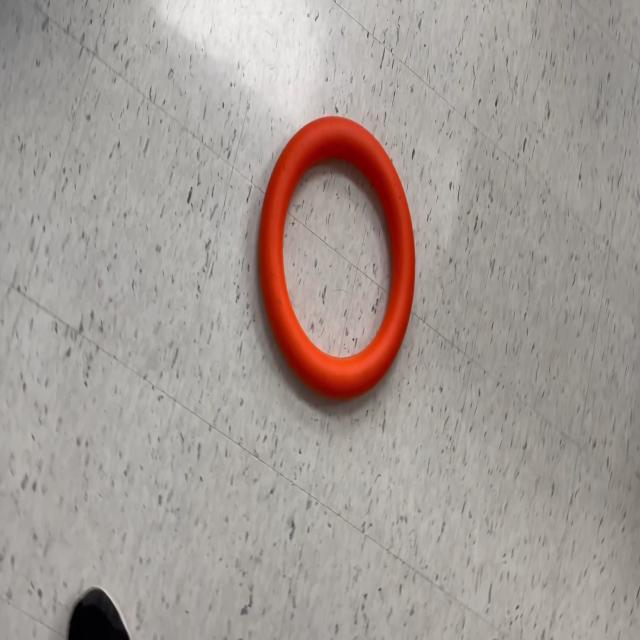note: (257, 114, 415, 399)
